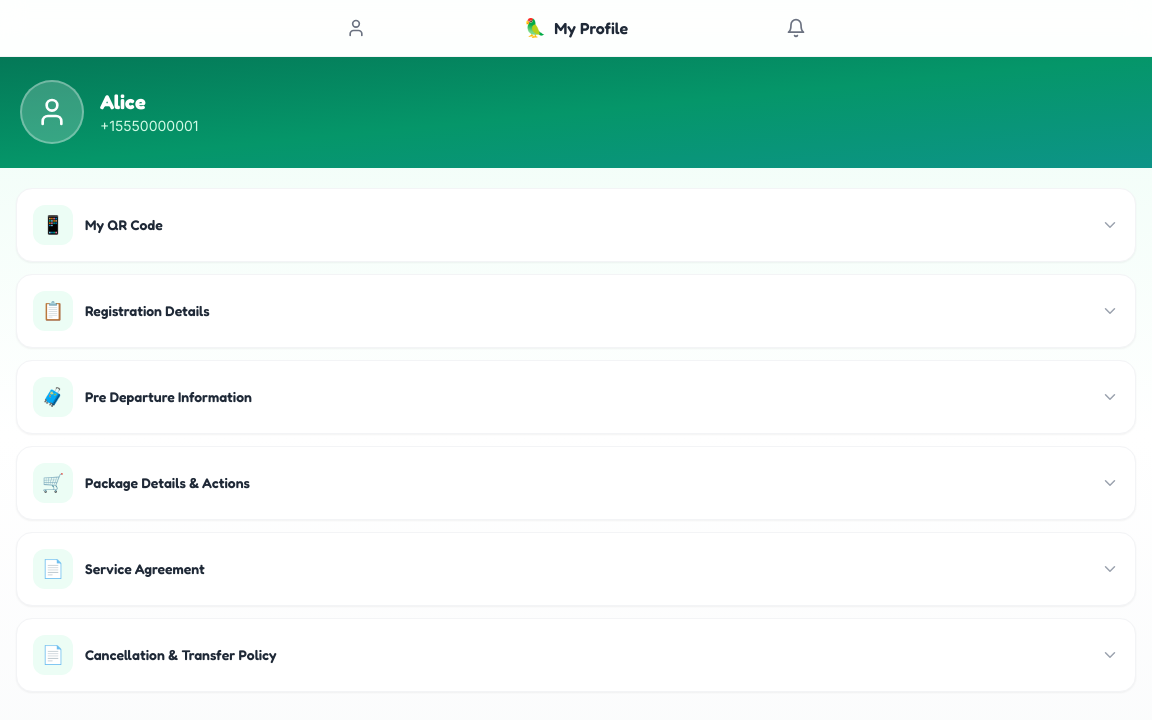
Test: ProfileScreen › shows the cancellation policy fallback as the final profile section
The width and height of the screenshot is (1152, 720).
Expected: the heading "My Profile" is shown, [554, 16, 628, 40]
Step 1. Click the button "📄 Cancellation & Transfer Policy" → point(53, 655), box [17, 619, 1135, 691]
(page scrolled)
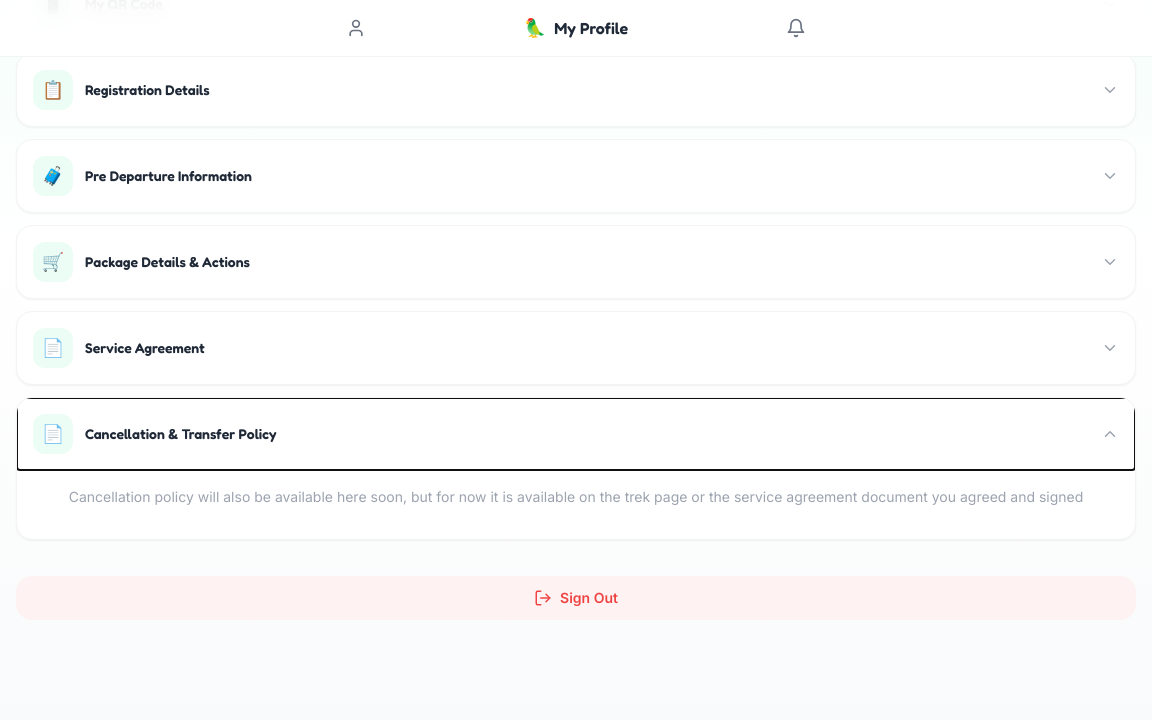
Result: the text "Cancellation policy will also be available here soon" is shown at [69, 488, 1083, 505]
